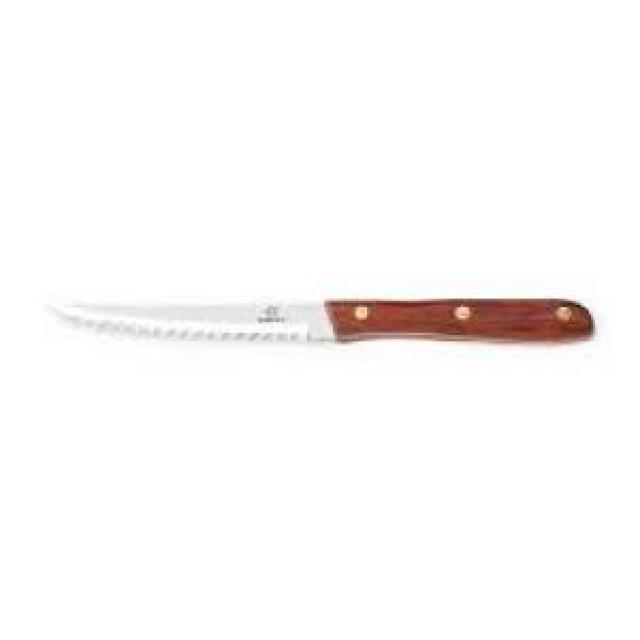knife: (45, 286, 606, 350)
